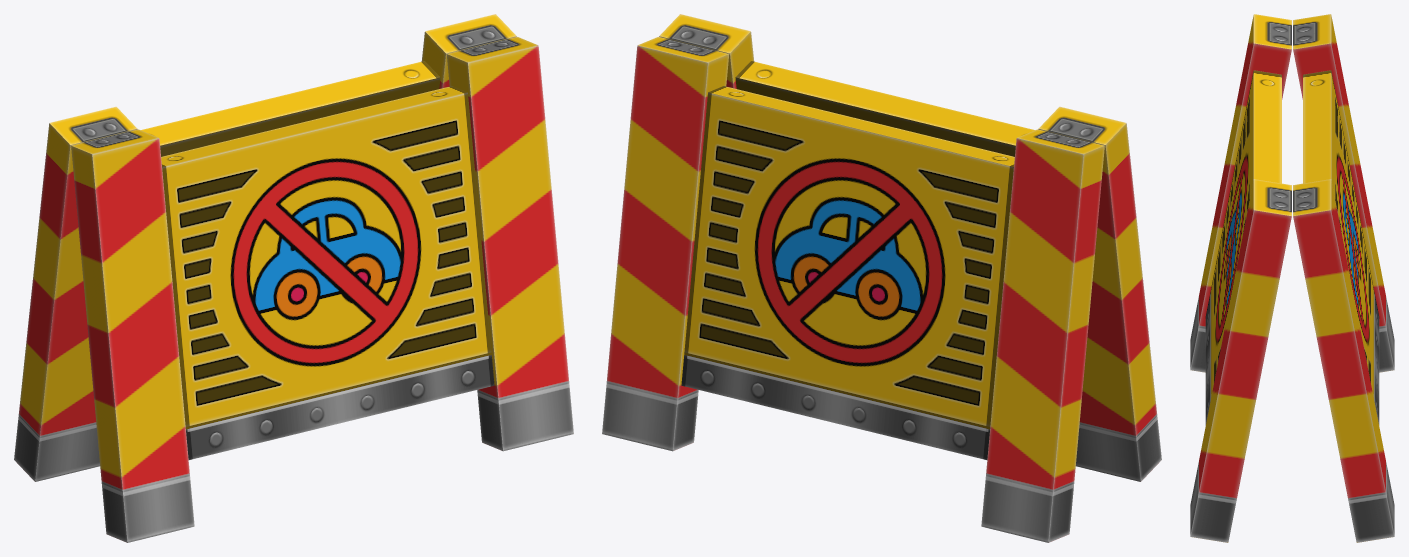
The model's file is item_barricade.FBX.
3 views of the same model, side by side, from view 1: azimuth 30°, elevation 25°; view 2: azimuth 150°, elevation 25°; view 3: azimuth 270°, elevation 25° (orthographic). The views are drawn at different scales.
Visible parts, largest first — view 1: Box002; view 2: Box002; view 3: Box002.
Boxes of the visible parts, x1=… form: Box002: x1=14, y1=14, x2=573, y2=542; Box002: x1=602, y1=14, x2=1161, y2=542; Box002: x1=1190, y1=14, x2=1394, y2=542.
Bounding box in the file's own units: 0.4762 × 0.3766 × 0.2098.
